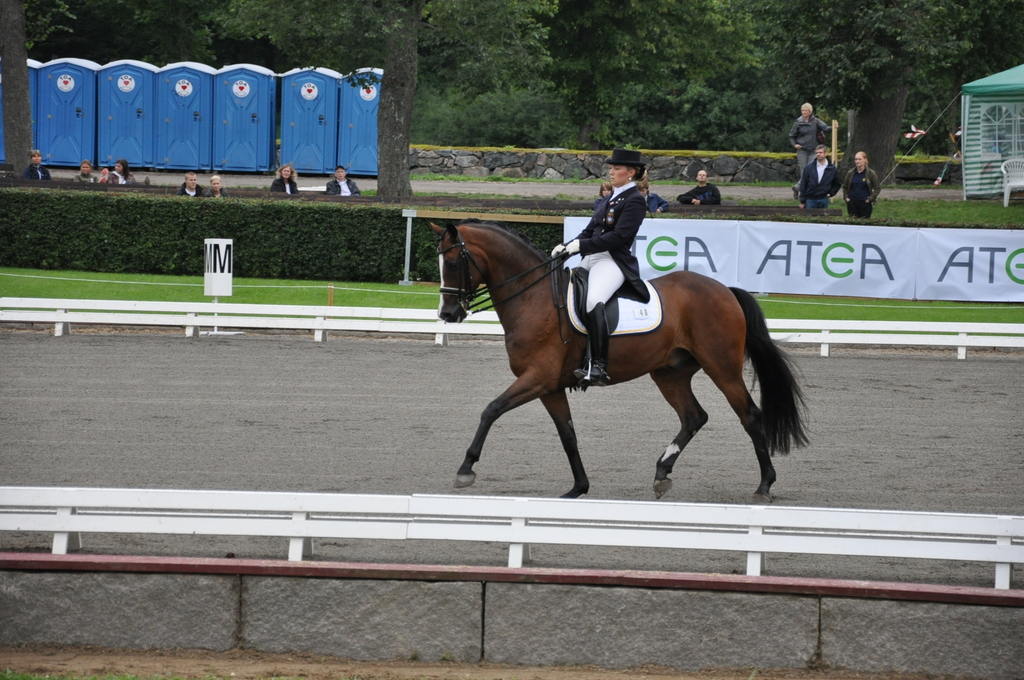horse: (423, 217, 819, 505)
